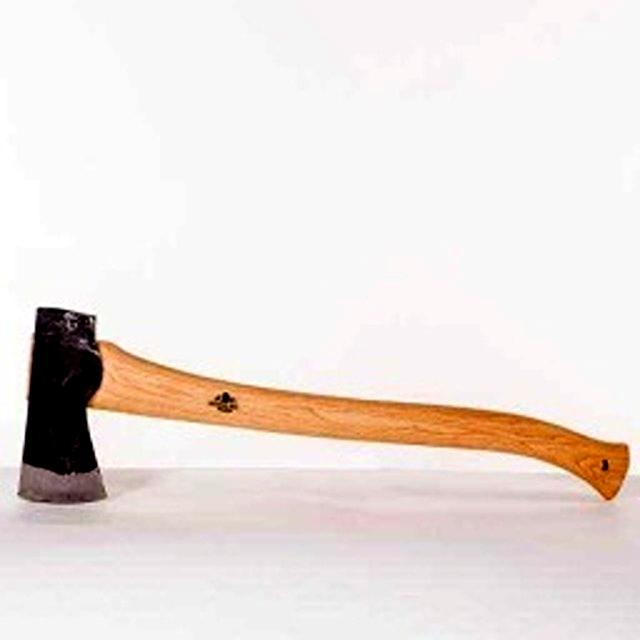ax: (14, 298, 633, 540)
